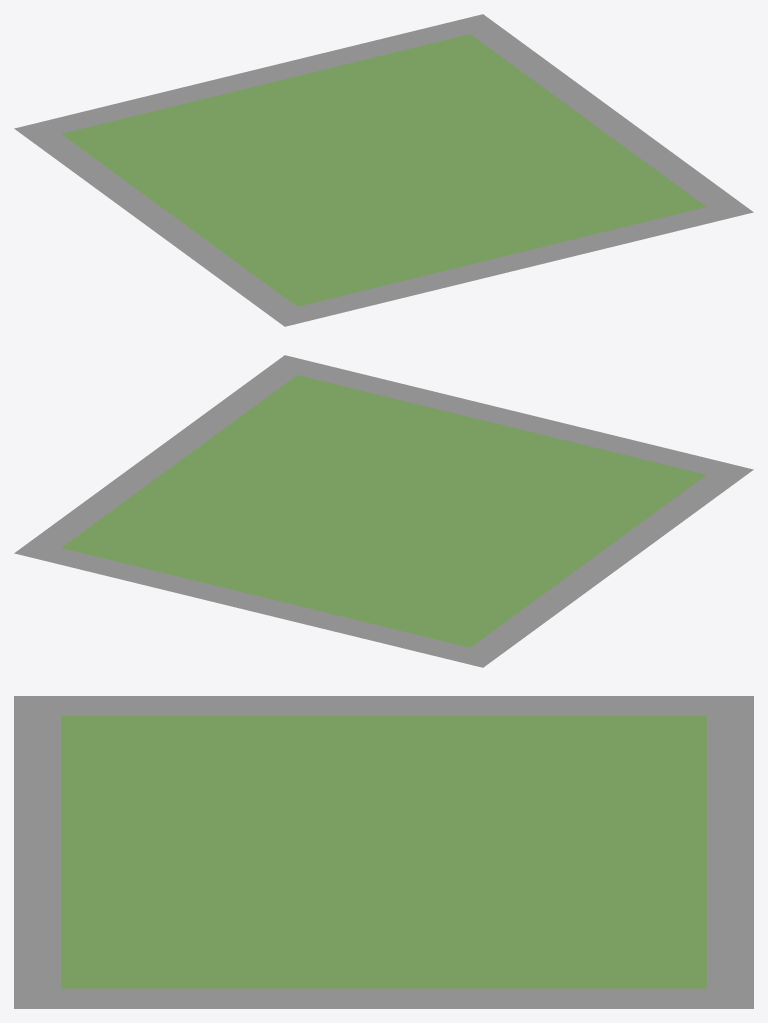
Rendered from tile_for_home_2x2_002.fbx.
3 views of the same model, one above another, from view 1: azimuth 30°, elevation 25°; view 2: azimuth 150°, elevation 25°; view 3: azimuth 270°, elevation 25° (orthographic). The views are drawn at different scales.
Visible parts, largest first — view 1: tile_for_home_2x2_002; view 2: tile_for_home_2x2_002; view 3: tile_for_home_2x2_002.
Part boxes in pixels (x1,y1,x2,y2): tile_for_home_2x2_002: (14,14,753,326); tile_for_home_2x2_002: (14,355,753,667); tile_for_home_2x2_002: (14,696,753,1008).
Bounding box in the file's own units: 1600 × 0.2897 × 1600.
